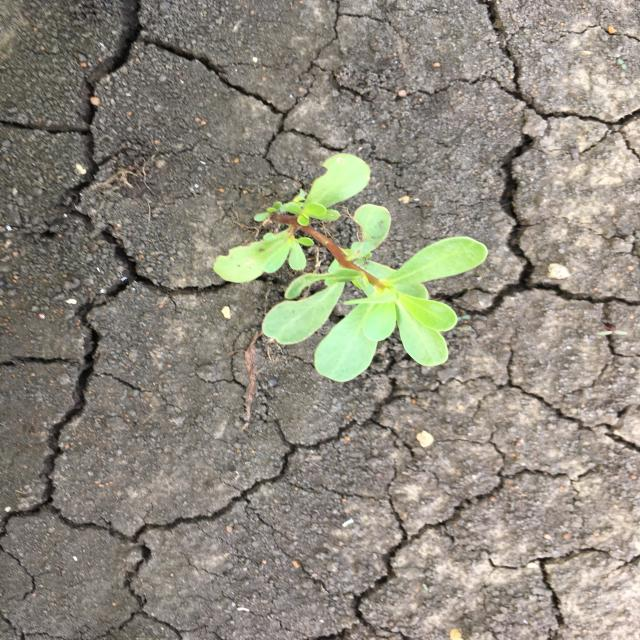Purslane: (208, 151, 492, 385)
